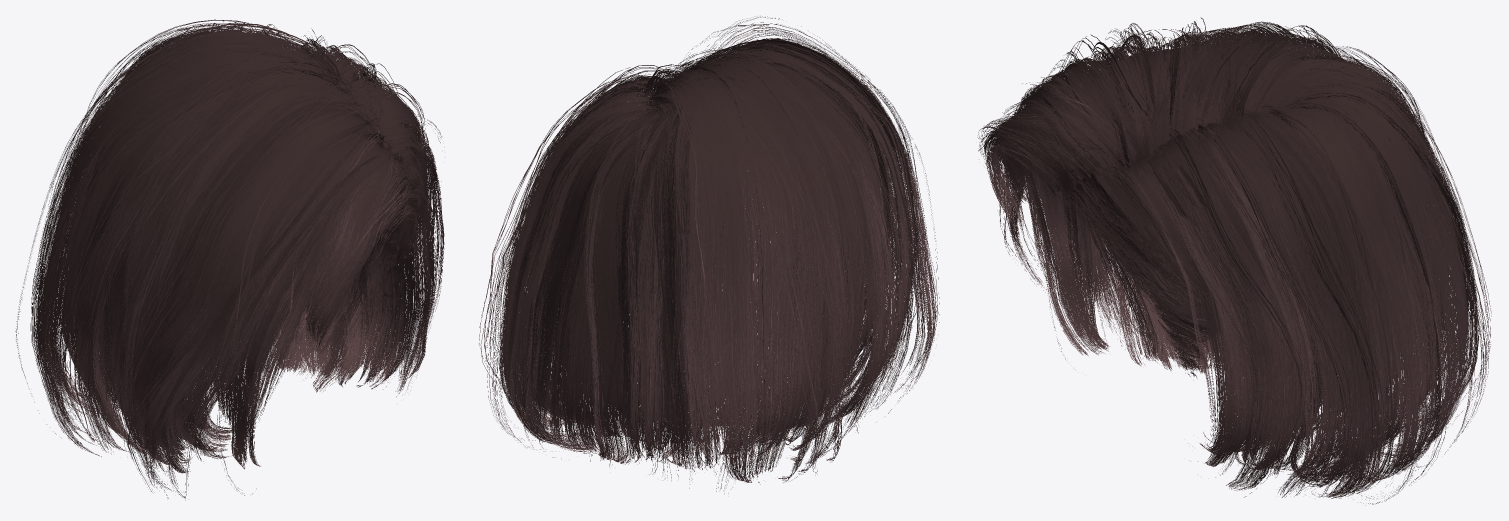
File: Character_Hair.fbx
The picture shows the model from 3 angles, left to right: view 1: azimuth 30°, elevation 25°; view 2: azimuth 150°, elevation 25°; view 3: azimuth 270°, elevation 25°; orthographic projection. The views are drawn at different scales.
Visible parts, largest first — view 1: Hair; view 2: Hair; view 3: Hair.
Part boxes in pixels (bbox=[...]): Hair: bbox=[15, 19, 444, 500]; Hair: bbox=[479, 16, 939, 493]; Hair: bbox=[977, 17, 1491, 505].
Size of the model in its own units: 24.85 by 25.4 by 29.04.
